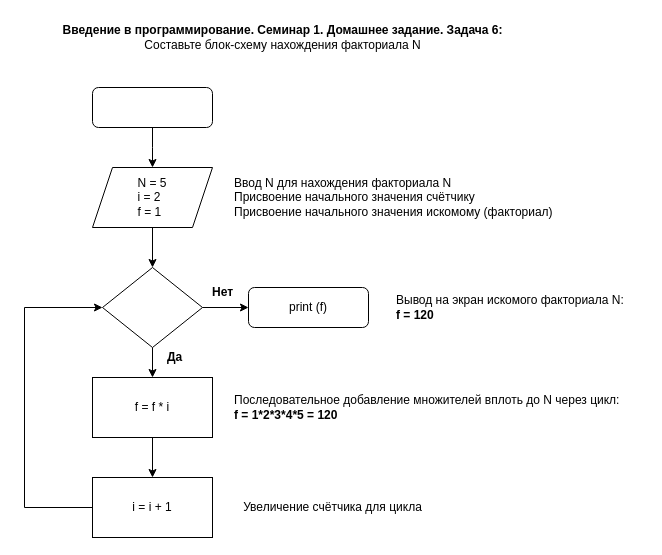
This 662x555 diagram has some shape labels left out. The shapes that lost their labels are listed below. From the top down, each one's box as (x1, y1, x2, y2) in pixels, then its label:
(92, 86, 212, 128): Start
(102, 266, 202, 348): i <= N
